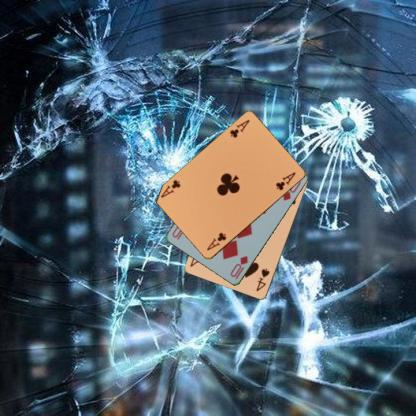10d: (228, 253, 249, 281)
4s: (253, 266, 271, 292)
Ac: (204, 230, 228, 252), (227, 118, 251, 140)
